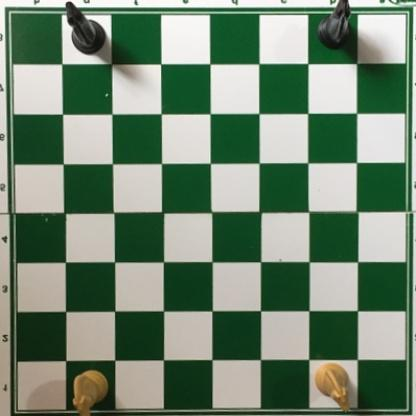black-knight: (63, 1, 108, 55), (317, 1, 352, 53)
white-knight: (314, 360, 353, 412), (73, 369, 108, 416)
